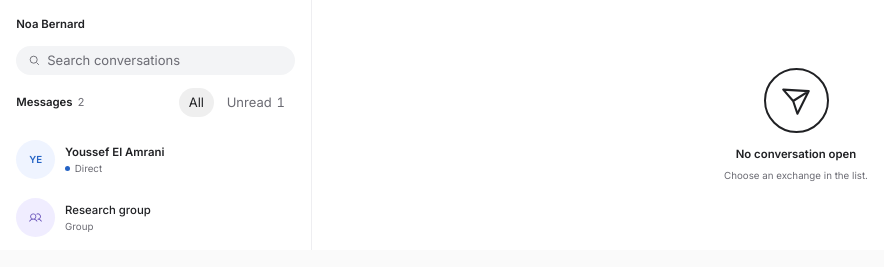
Scenario: messages page › searches conversations and filters unread exchanges with a reset for empty results
Click the button "Unread1" at (256, 102), box [217, 88, 295, 117]
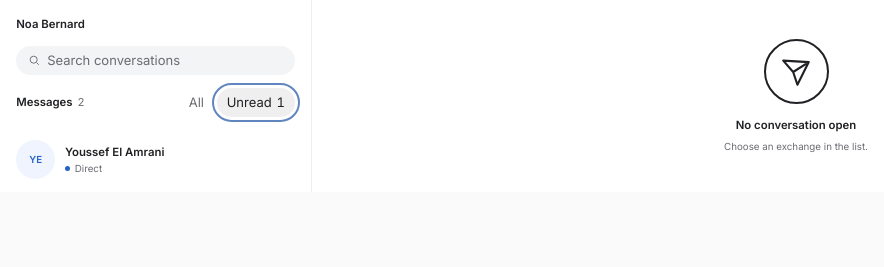
Expected: the link "YE Youssef El Amrani Direct" is shown, [16, 140, 164, 179]
Expected: the link "Research group" is gone
Type "missing" into the search field labelled "Search conversations" at (165, 60), box [47, 46, 283, 75]
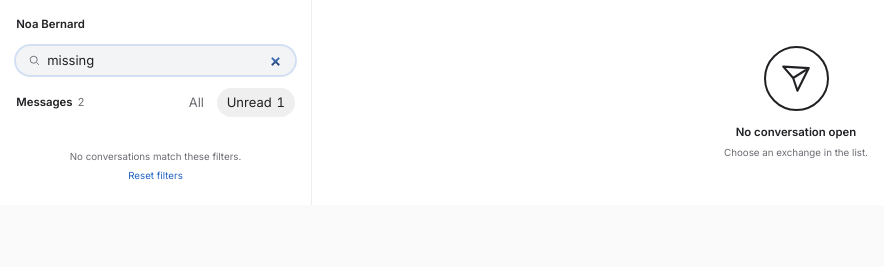
Expected: the text "No conversations match these filters." is shown, [70, 150, 241, 162]
Click the button "Reset filters" at (156, 176), box [128, 169, 183, 182]
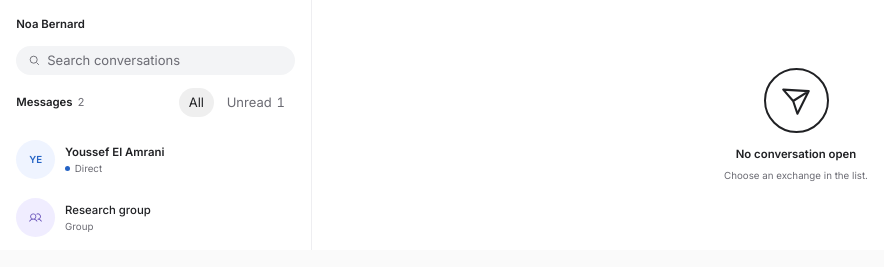
Expected: the link "Research group Group" is shown, [16, 198, 151, 237]
Type "Research group" into the search field at (165, 60), box [47, 46, 283, 75]
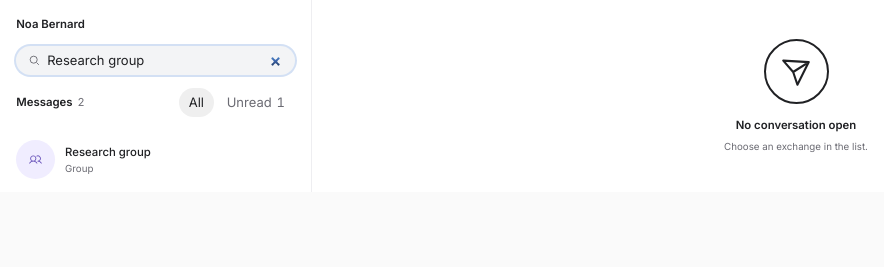
Expected: the link "Youssef" is gone
